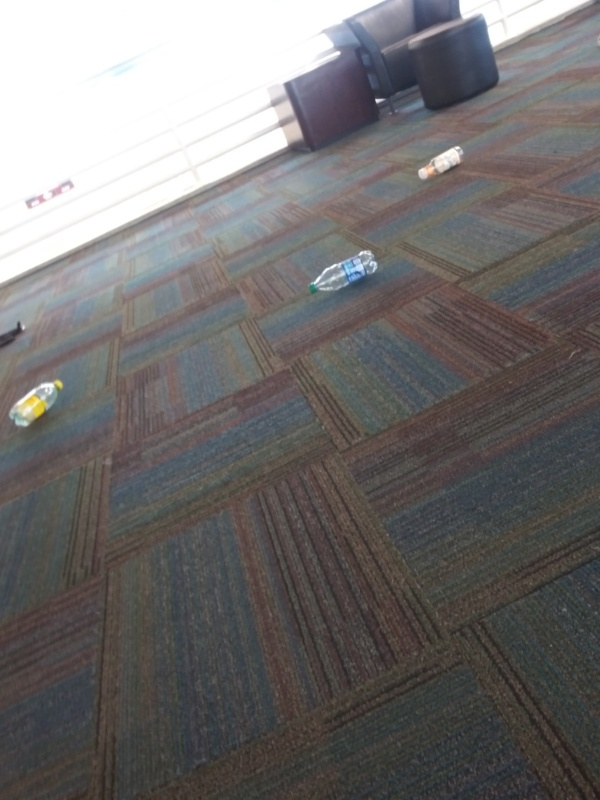bottle: (304, 248, 381, 299), (8, 375, 68, 436), (414, 141, 468, 186)
